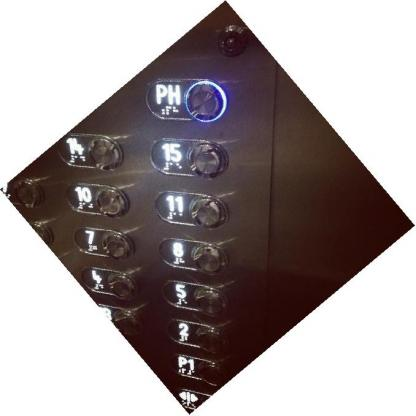10: (63, 179, 130, 217)
11: (154, 187, 230, 230)
14: (56, 131, 124, 169)
15: (148, 134, 228, 178)
2: (166, 316, 228, 354)
4: (79, 265, 138, 300)
5: (160, 279, 228, 317)
7: (72, 224, 135, 261)
8: (157, 233, 228, 275)
P1: (170, 351, 224, 387)
PH: (144, 75, 228, 123)
